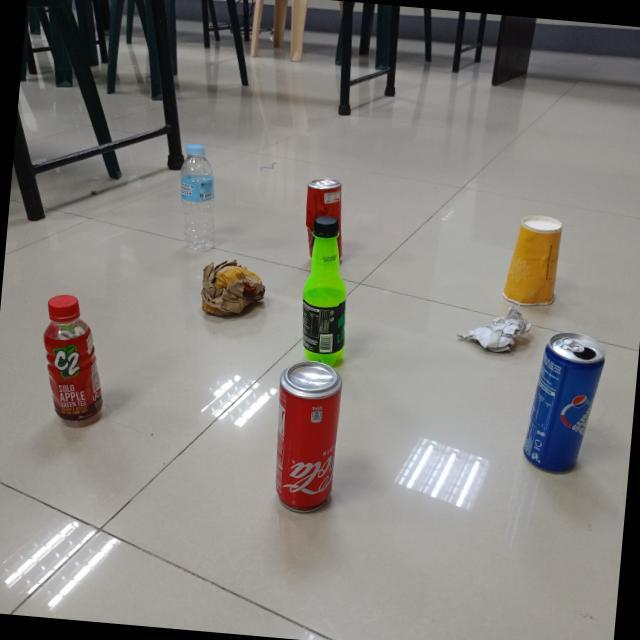recyclable waste: (259, 349, 352, 523), (514, 321, 614, 482), (29, 284, 117, 434), (290, 210, 362, 373), (166, 136, 228, 258), (498, 207, 566, 311), (192, 252, 272, 326), (294, 170, 354, 268), (450, 298, 538, 360)
